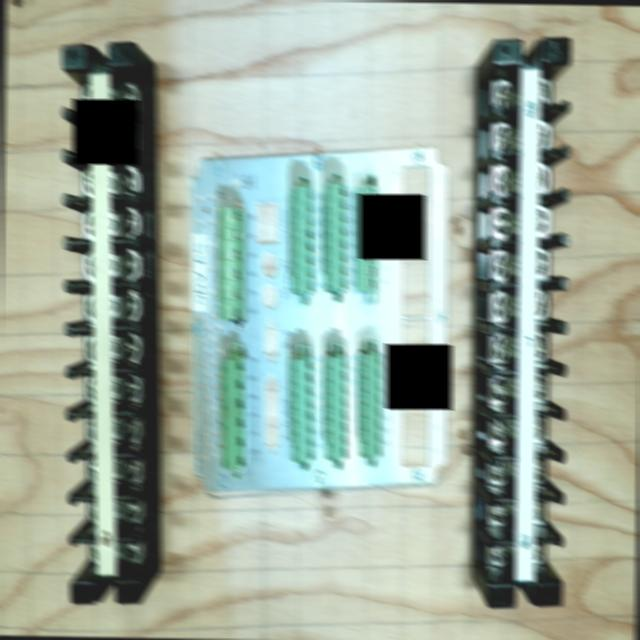Flathead_Block: (61, 43, 143, 602)
Phillips_Block: (487, 37, 571, 608)
Terminal_1: (217, 207, 245, 318), (219, 358, 245, 469)
Terminal_2: (288, 356, 314, 464), (322, 183, 347, 290), (289, 186, 314, 292), (358, 353, 382, 459), (324, 355, 348, 461)
